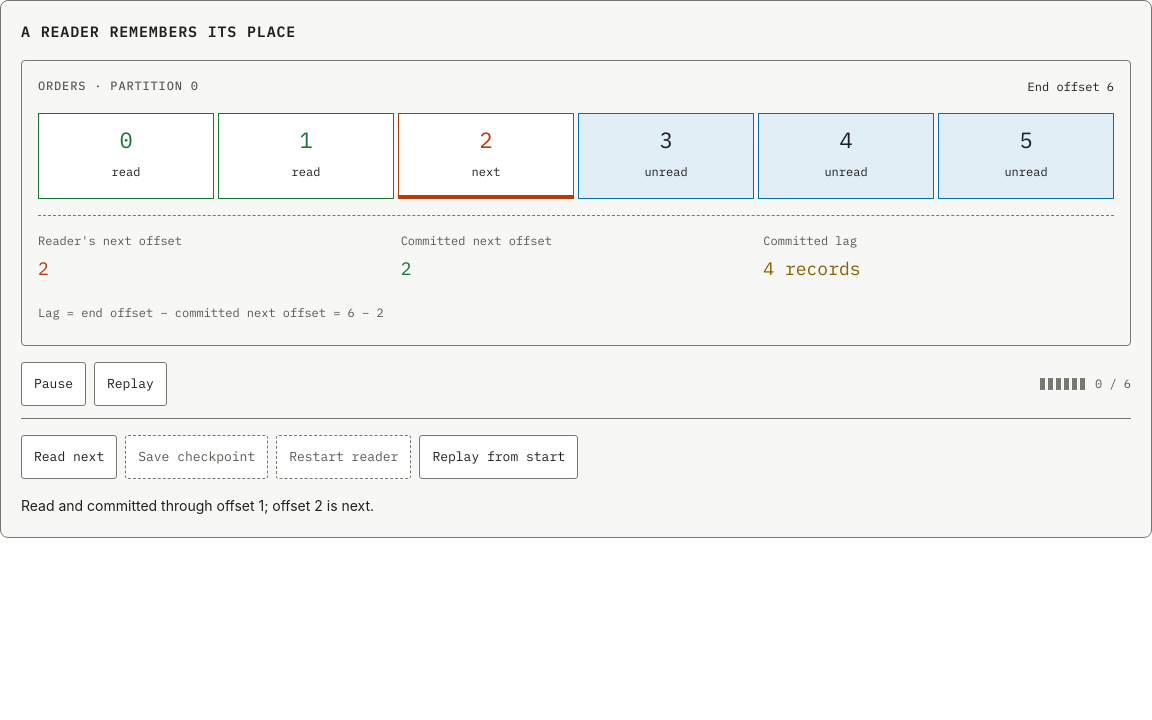
Test case: separates reading, saving a checkpoint, restarting, and replaying while retaining the log
This screenshot has width=1152, height=720.
Click the button "Read next" at (69, 457), box [21,435,117,479]
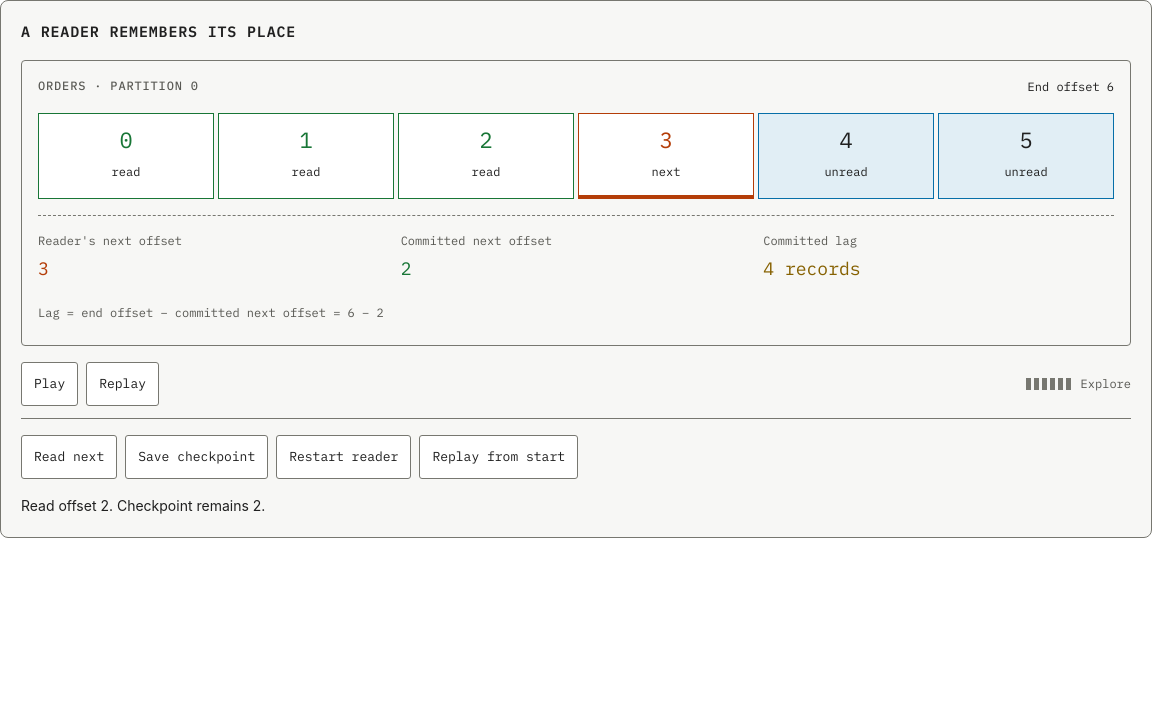
expect the text "4 records" is shown: met, box [763,257,860,280]
Click the button "Restart reader" at (344, 457), box [276,435,411,479]
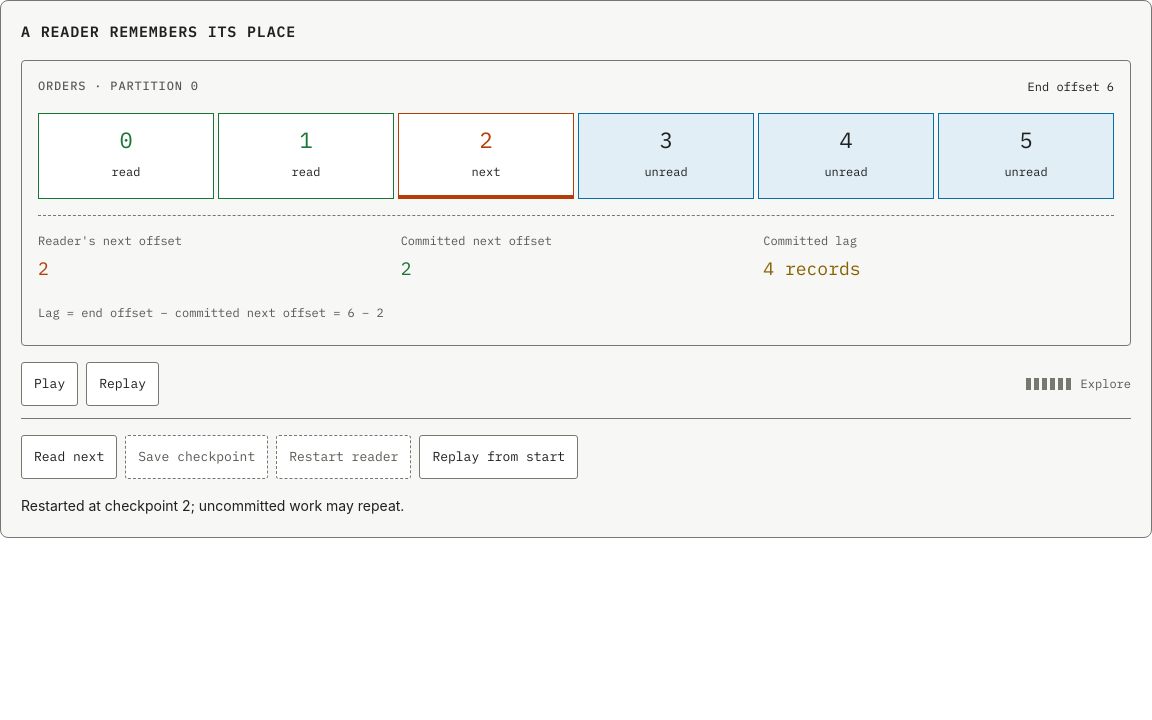
Click the button "Read next" at (69, 457), box [21,435,117,479]
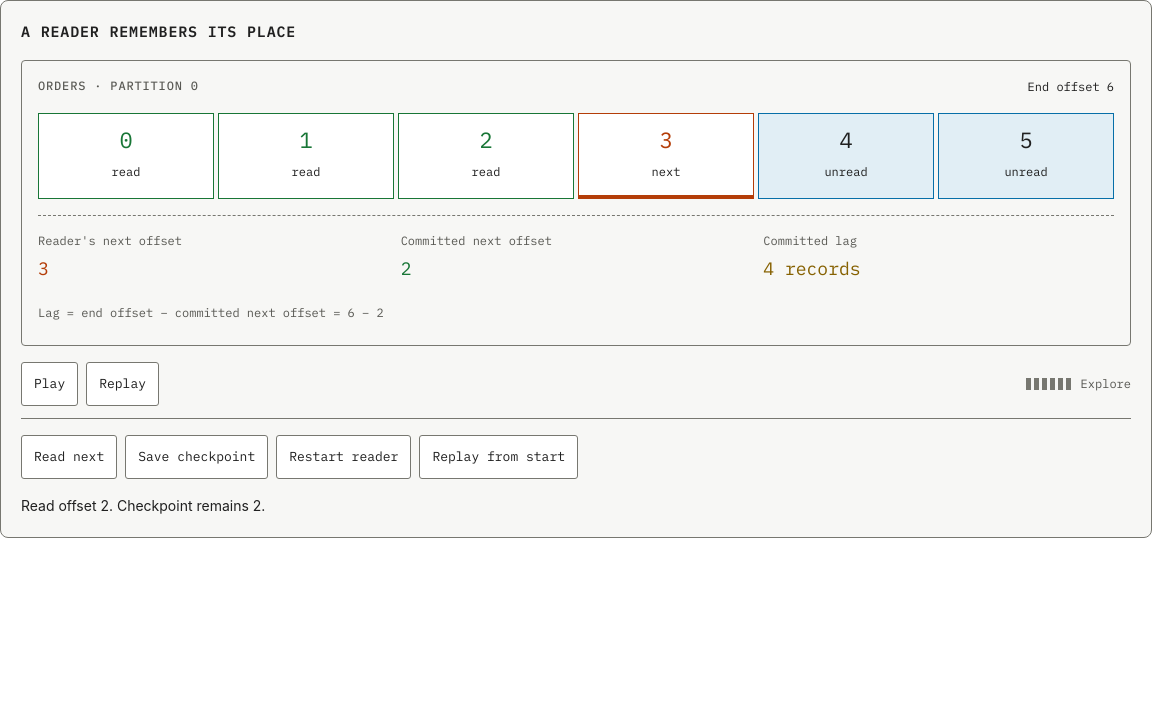
Click the button "Save checkpoint" at (197, 457), box [125,435,268,479]
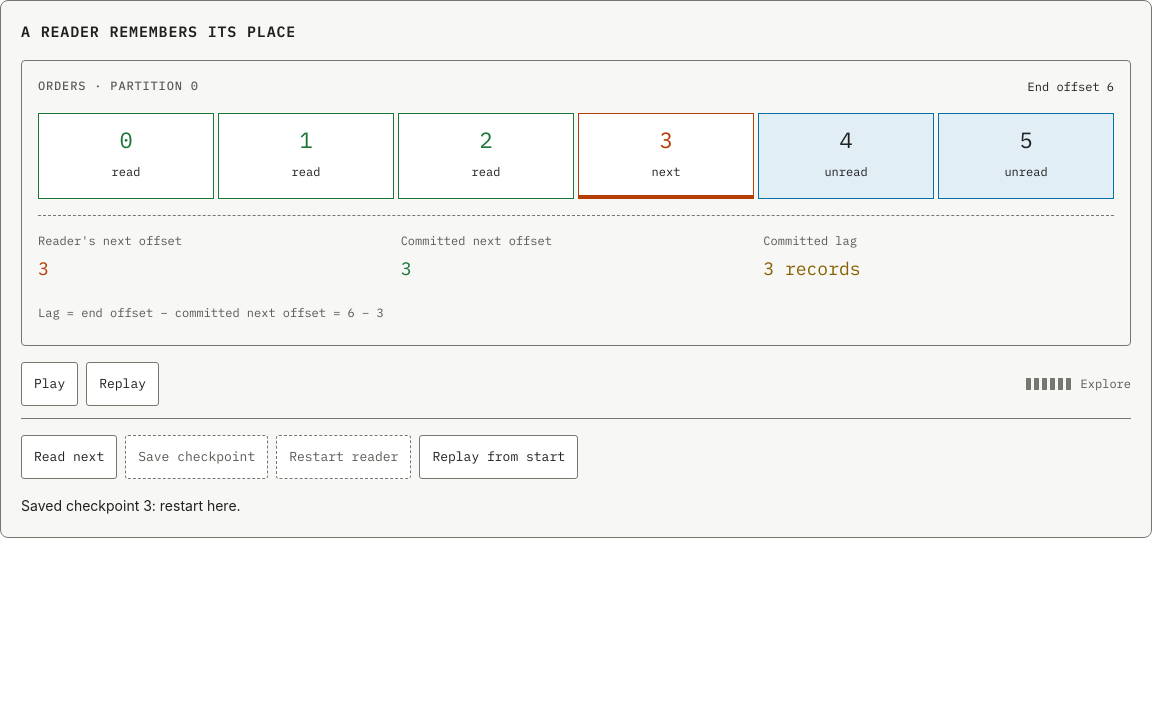
expect the text "3 records" is shown: met, box [763,257,860,280]
Click the button "Replay from start" at (499, 457), box [419,435,578,479]
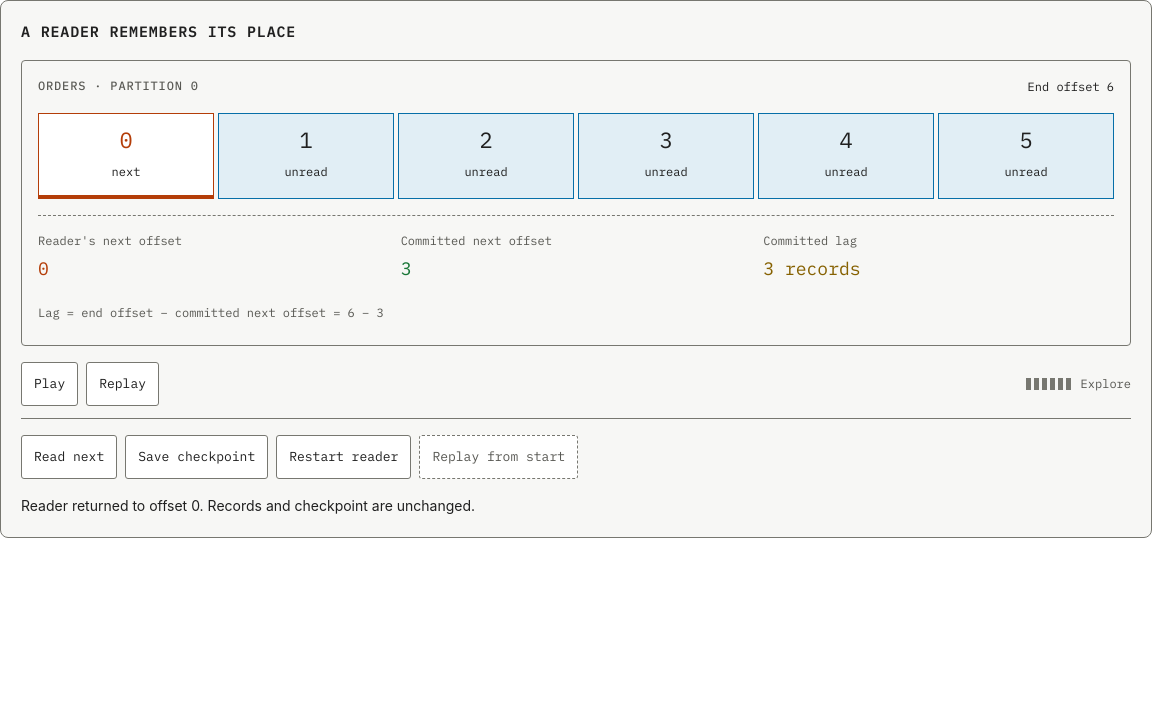
expect the number of list items is 6: met, box [38,113,214,199]; [218,113,394,199]; [398,113,574,199]; [578,113,754,199]; [758,113,934,199]; [938,113,1114,199]
expect the list item "0 next" is shown: met, box [38,113,214,199]
